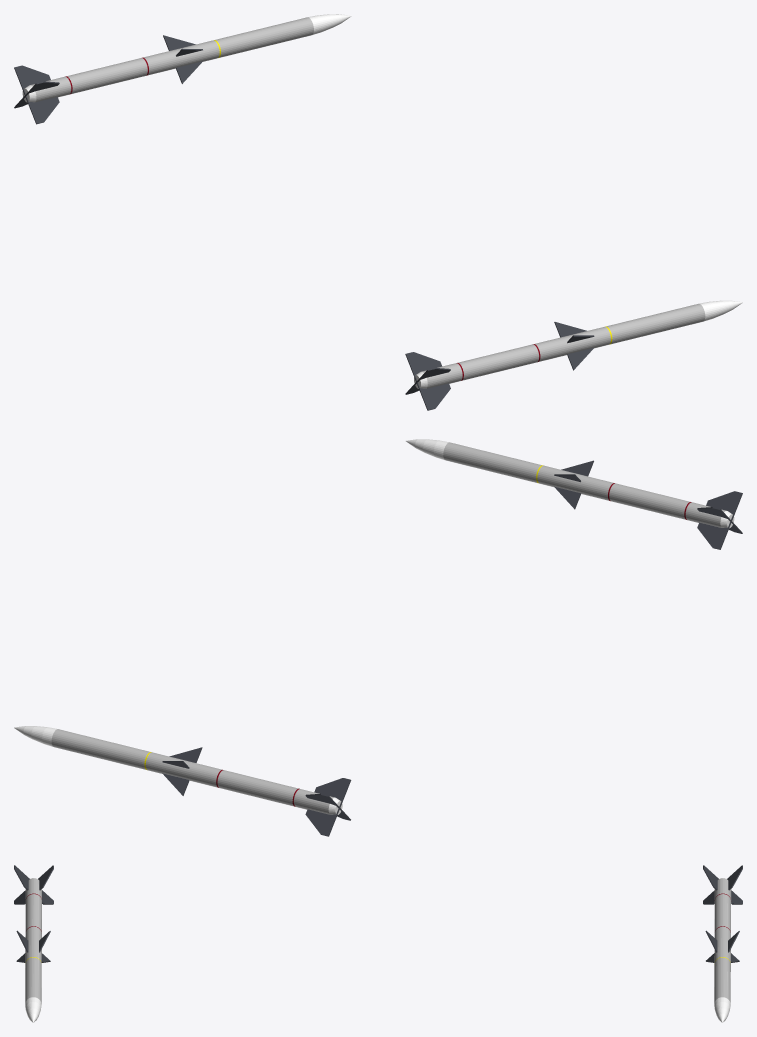
File: f16caim12025.glb
The picture shows the model from 3 angles, top to bottom: view 1: azimuth 30°, elevation 25°; view 2: azimuth 150°, elevation 25°; view 3: azimuth 270°, elevation 25°; orthographic projection. The views are drawn at different scales.
Parts seen in each view (by area): view 1: 円柱.003, 円柱.004; view 2: 円柱.004, 円柱.003; view 3: 円柱.003, 円柱.004.
Part boxes in pixels (box(x1,y1,x2,y2)): 円柱.003: box(14, 14, 351, 124); 円柱.004: box(405, 300, 742, 410); 円柱.004: box(406, 439, 742, 549); 円柱.003: box(14, 726, 351, 836); 円柱.003: box(703, 865, 742, 1022); 円柱.004: box(14, 865, 53, 1022).
Bounding box in the file's own units: 4.39 × 0.5295 × 9.65.
4 materials, 4 textured.
